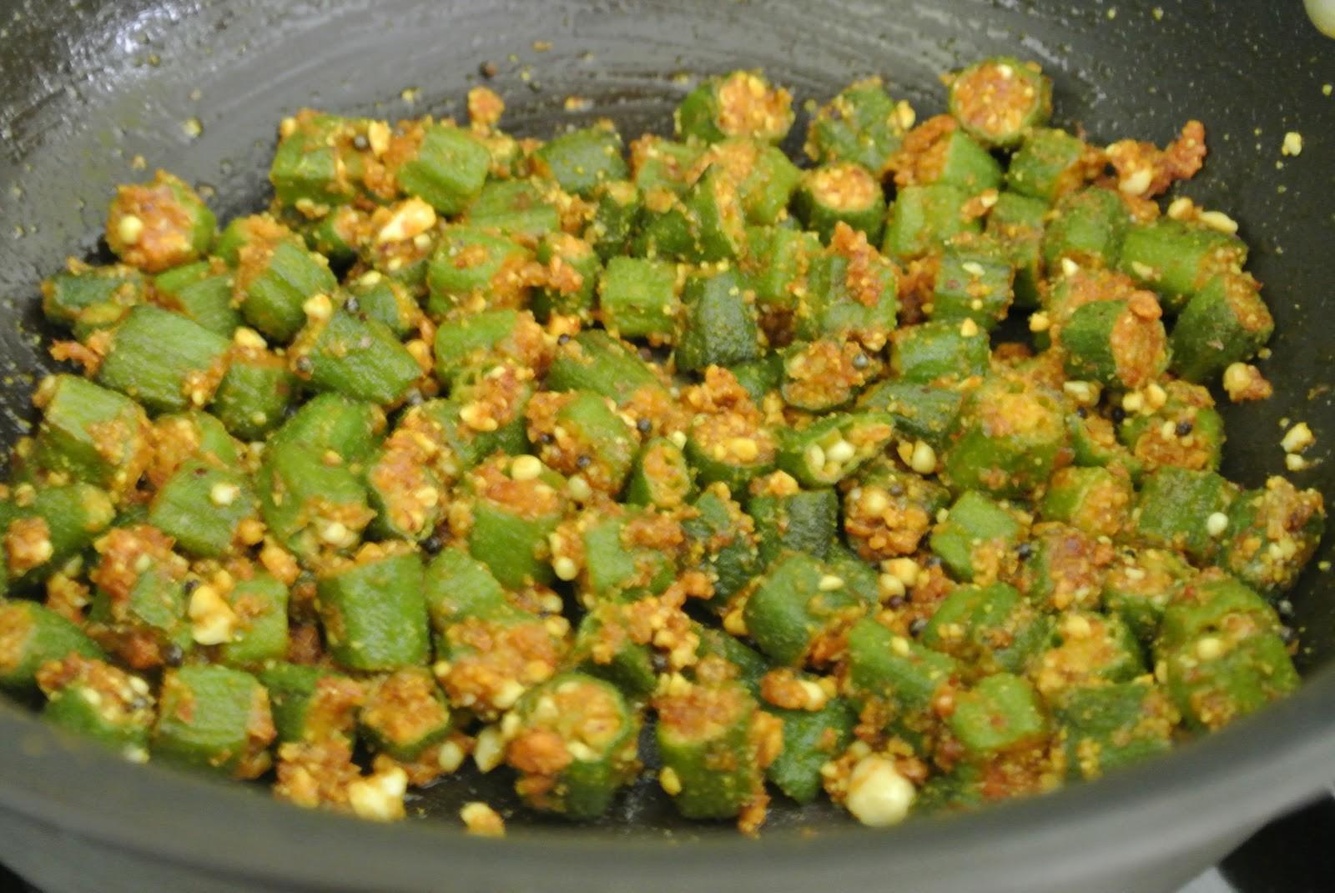BhindiMasala: (3, 58, 1316, 830)
